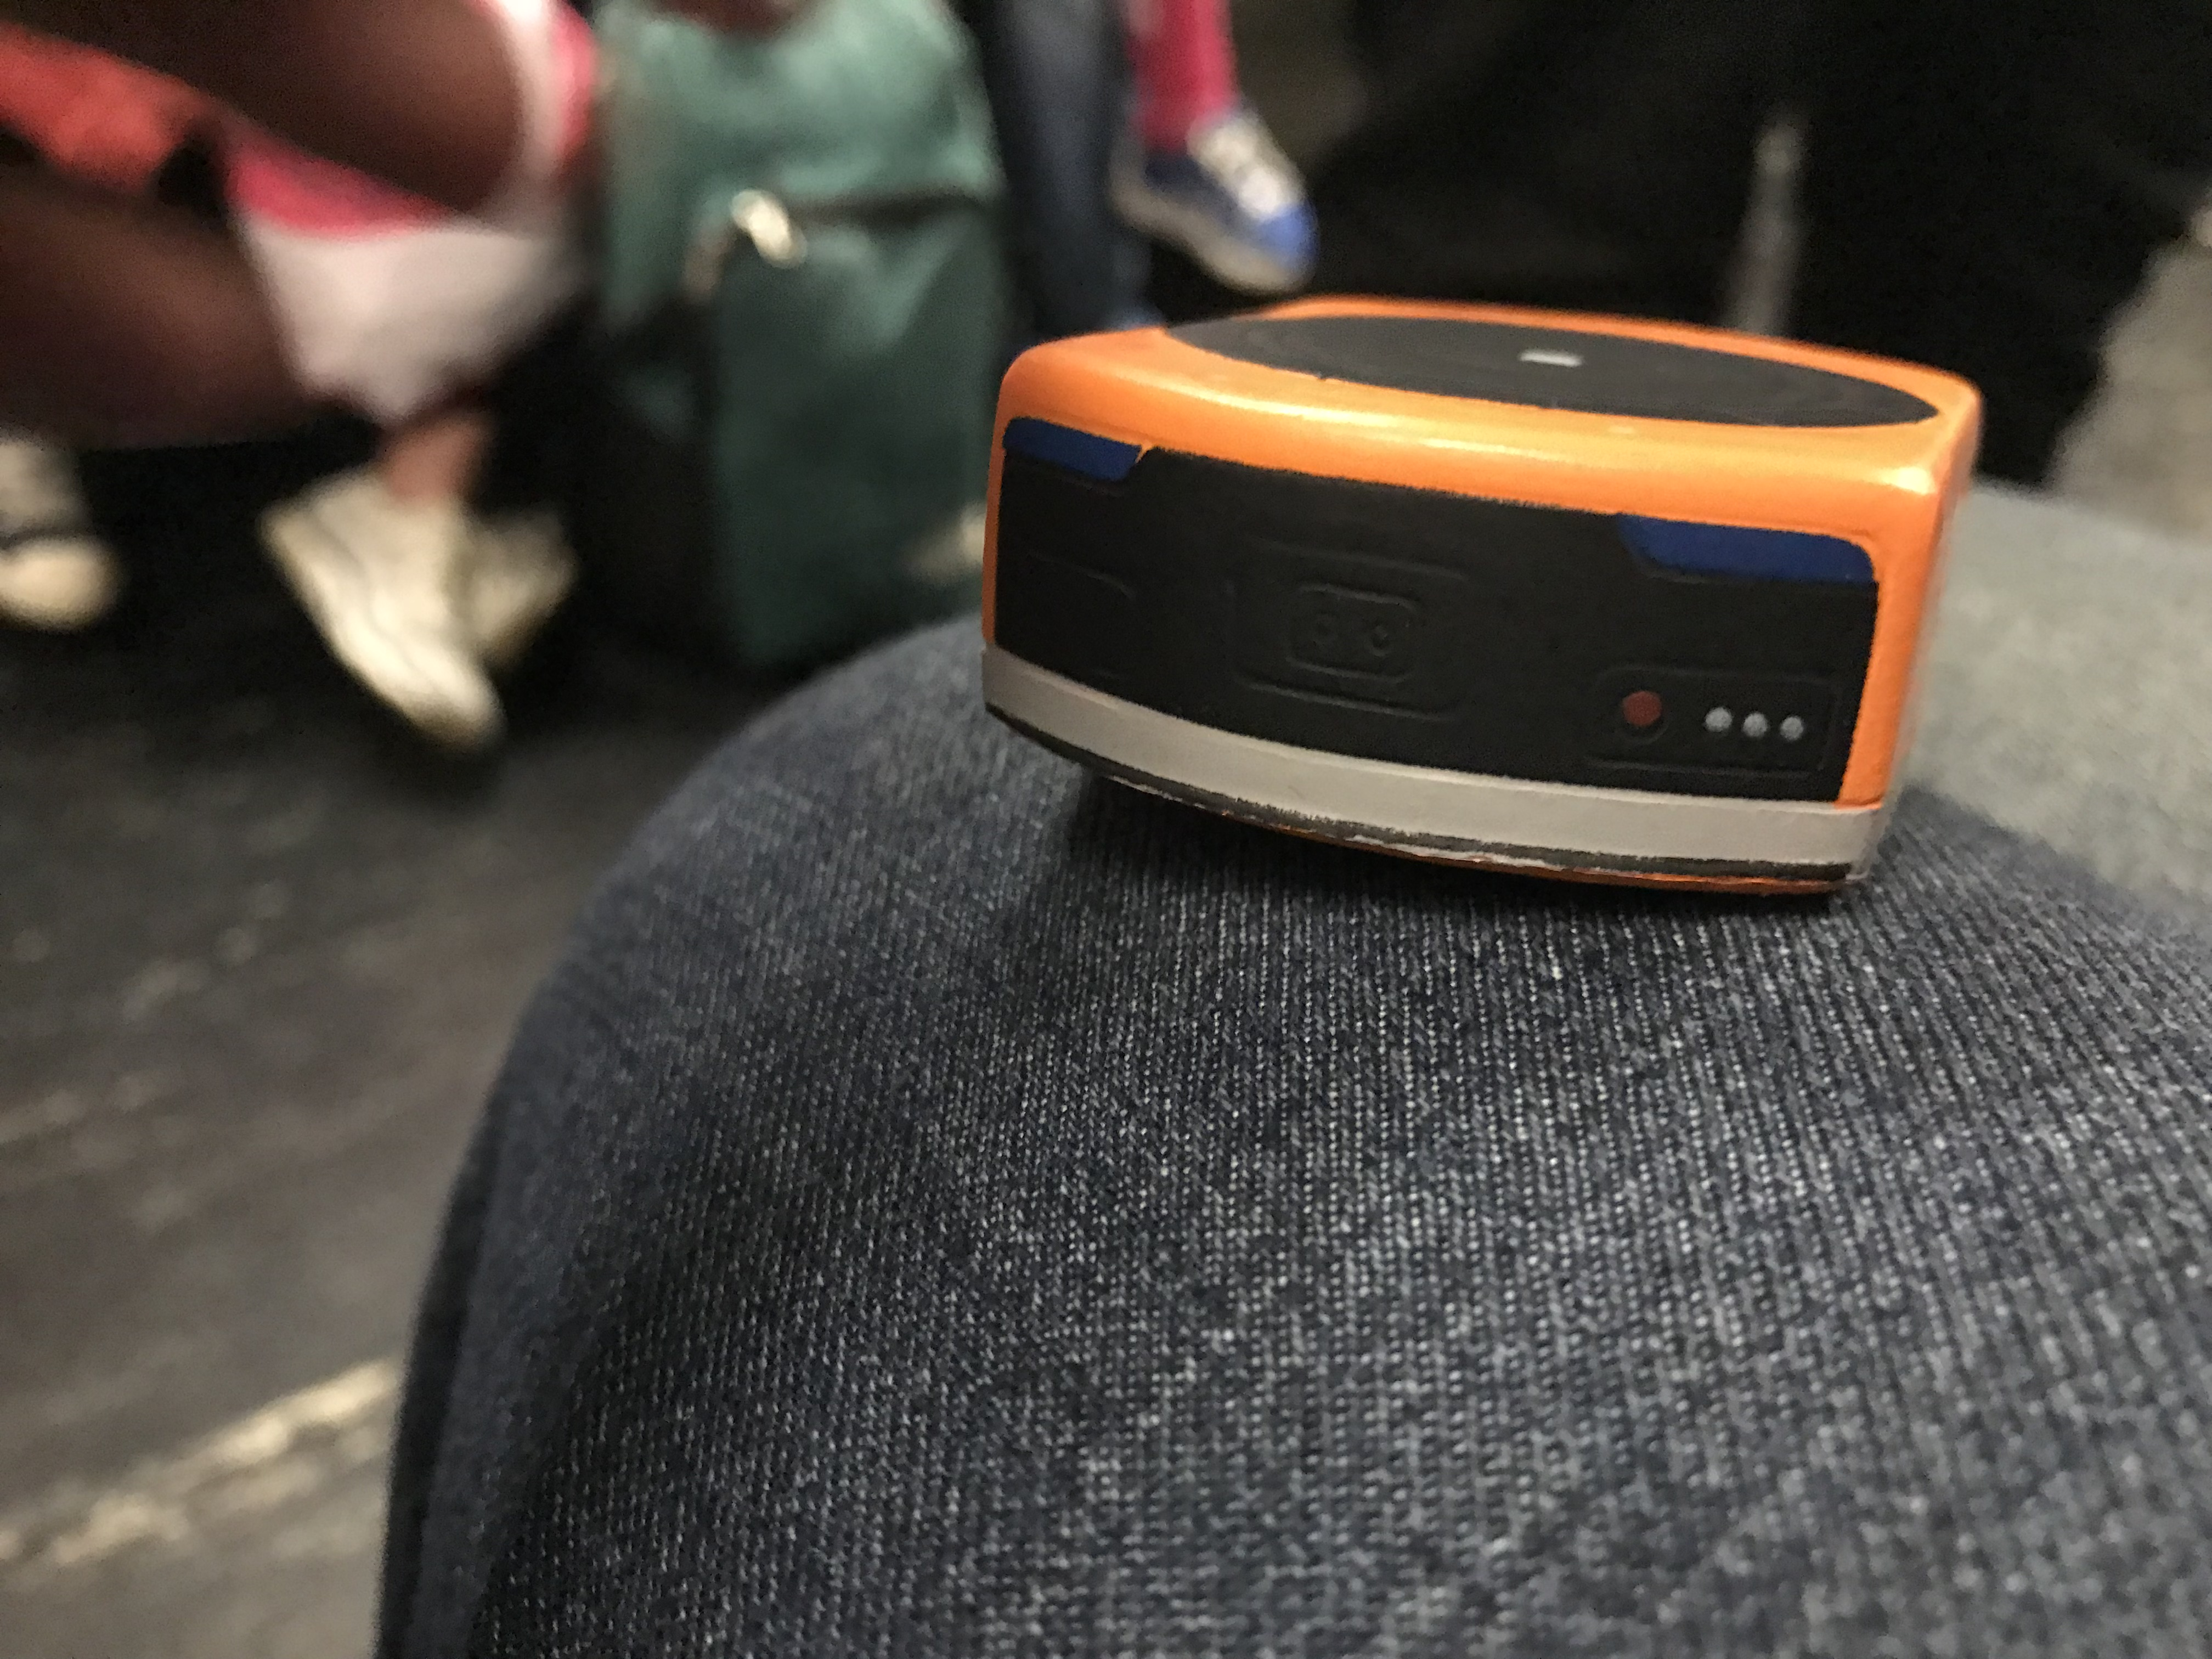amazon_bot: (967, 282, 2012, 960)
